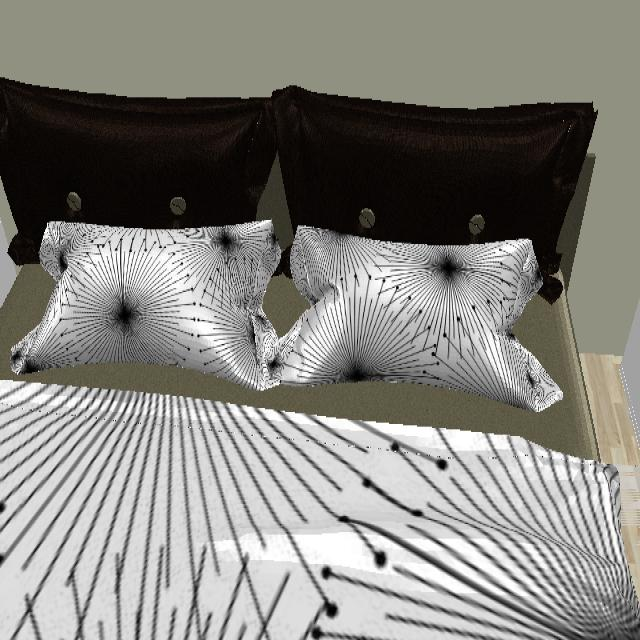bed: (0, 77, 640, 640)
pillow: (16, 224, 563, 415)
